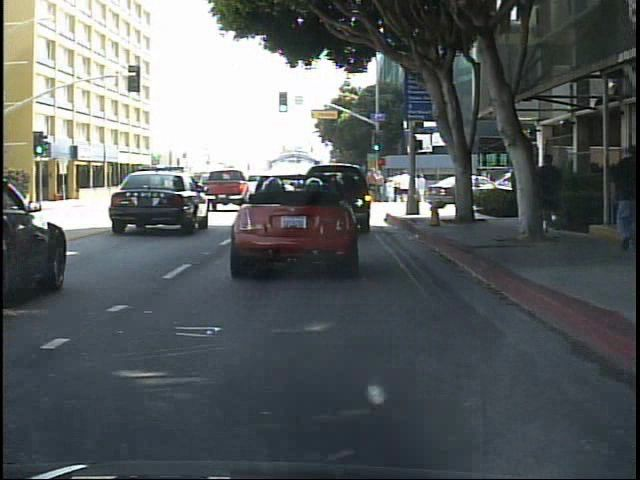person: (606, 141, 637, 260), (540, 147, 571, 237), (128, 175, 146, 202)
